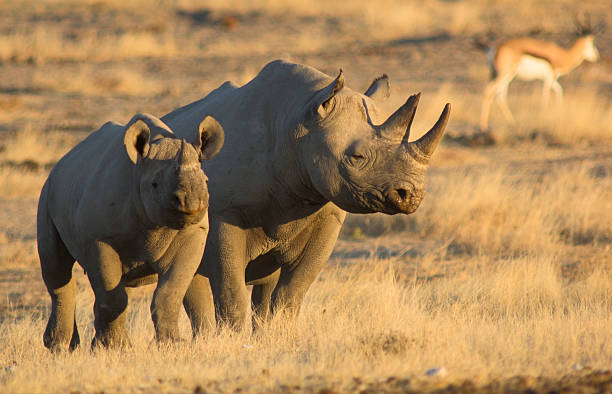rhino: (286, 60, 478, 247)
